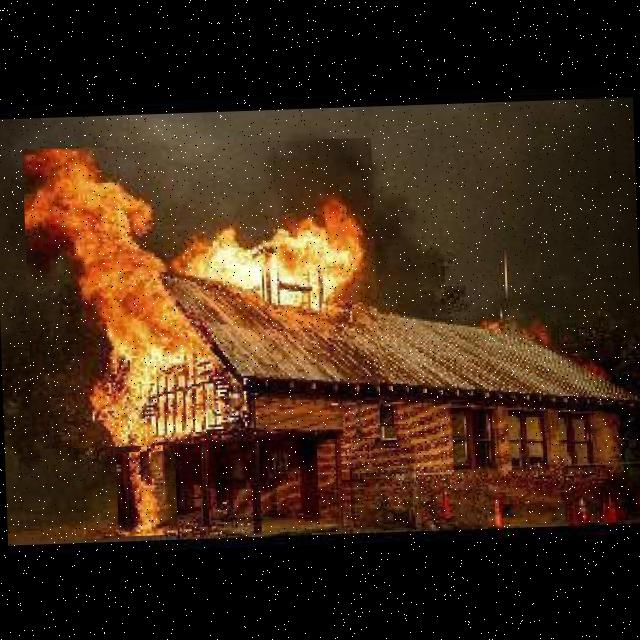fire: (22, 137, 381, 449), (116, 450, 178, 536)
